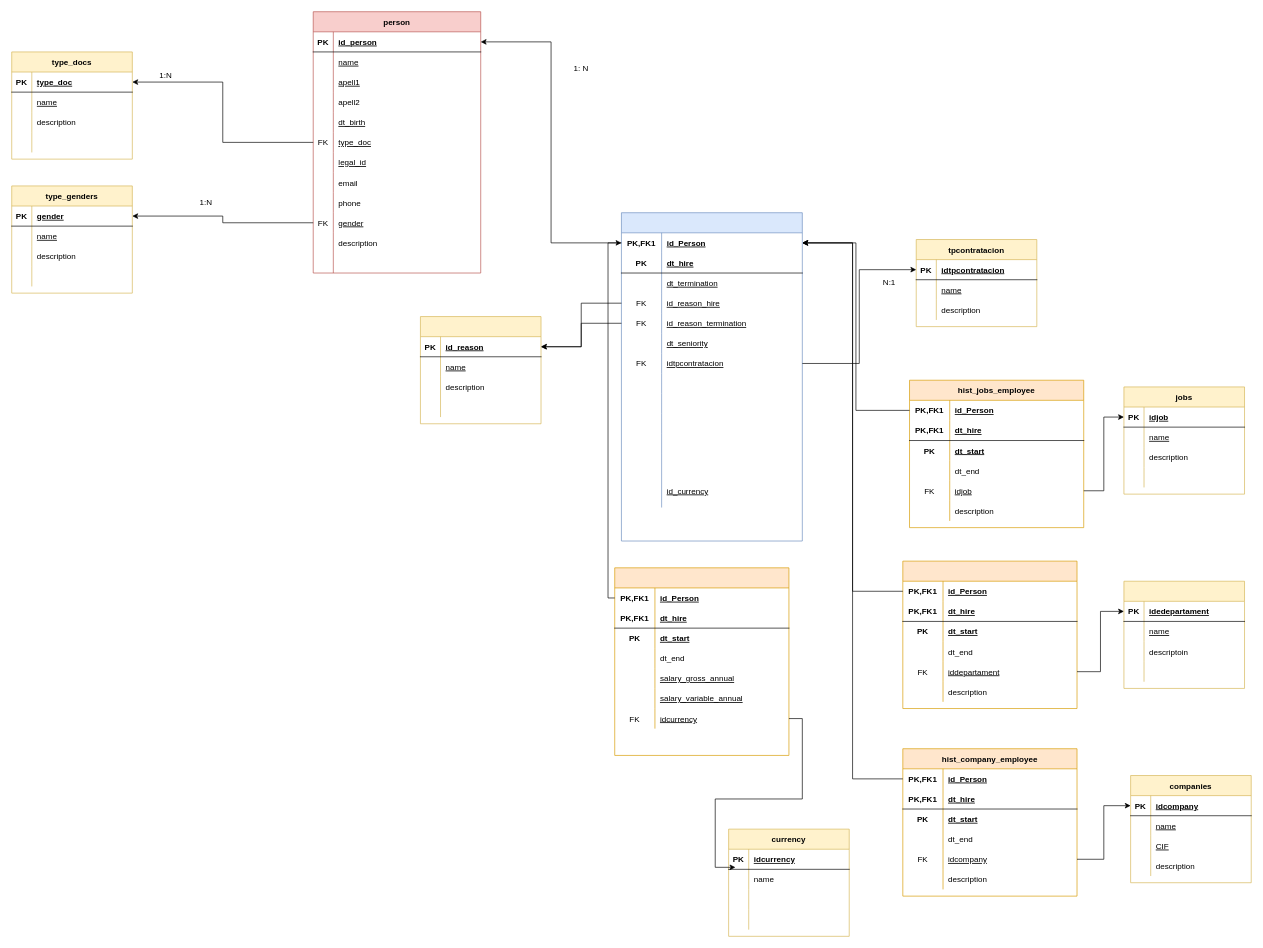
This 1263x948 diagram has some shape labels left out. The box of each missing label's shape, as (x1, y1, x2, y2) in pixels:
departaments: (1123, 581, 1245, 688)
employees: (621, 212, 802, 541)
hist_depart_employee: (902, 560, 1077, 709)
hist_salarial: (614, 567, 789, 755)
motivos: (420, 316, 541, 424)
